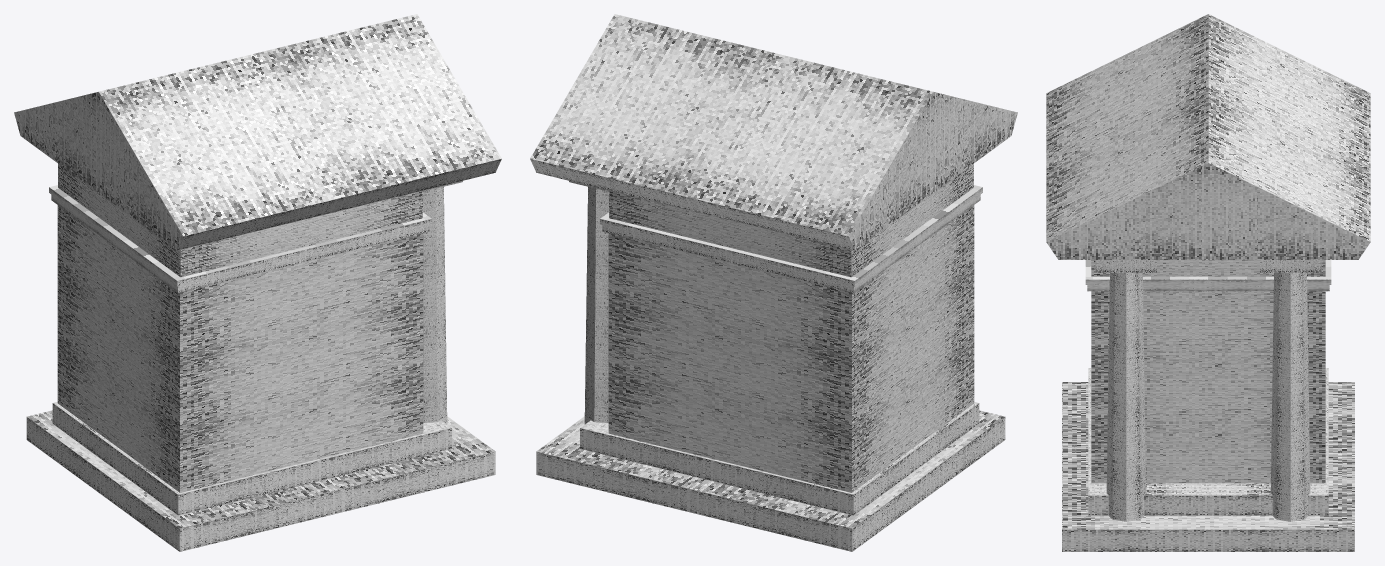
Rendered from mausoleum.fbx.
The picture shows the model from 3 angles, left to right: view 1: azimuth 30°, elevation 25°; view 2: azimuth 150°, elevation 25°; view 3: azimuth 270°, elevation 25°; orthographic projection. The views are drawn at different scales.
Visible parts, largest first — view 1: base, column; view 2: base, column; view 3: base, column, ColumnTops.
Boxes of the visible parts, left/top/right/bottom form: base: left=14, top=14, right=501, bottom=551; column: left=423, top=187, right=447, bottom=424; base: left=530, top=14, right=1017, bottom=551; column: left=584, top=187, right=608, bottom=424; base: left=1046, top=14, right=1370, bottom=551; column: left=1106, top=273, right=1310, bottom=521; ColumnTops: left=1095, top=260, right=1321, bottom=272.
Bounding box in the file's own units: 300 × 363 × 275.
